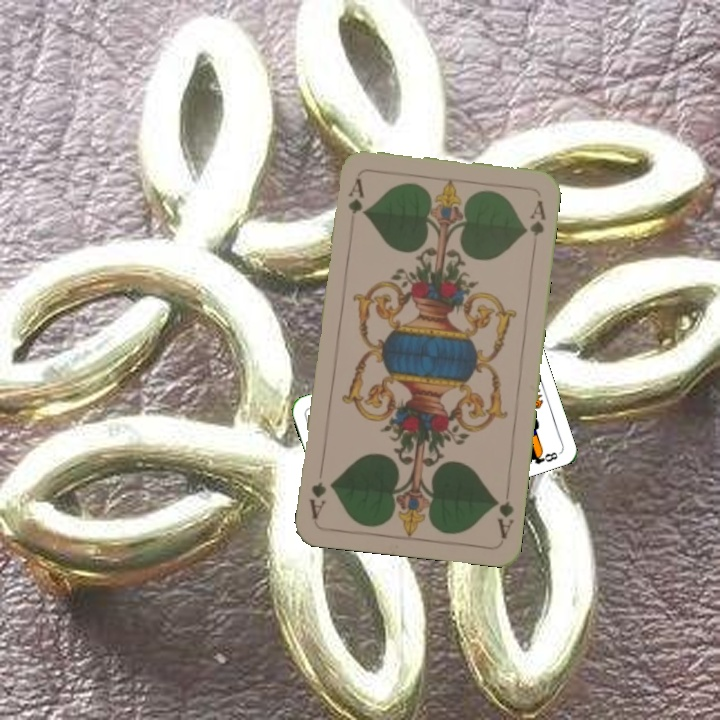GA: (344, 174, 366, 232), (490, 494, 516, 541)
